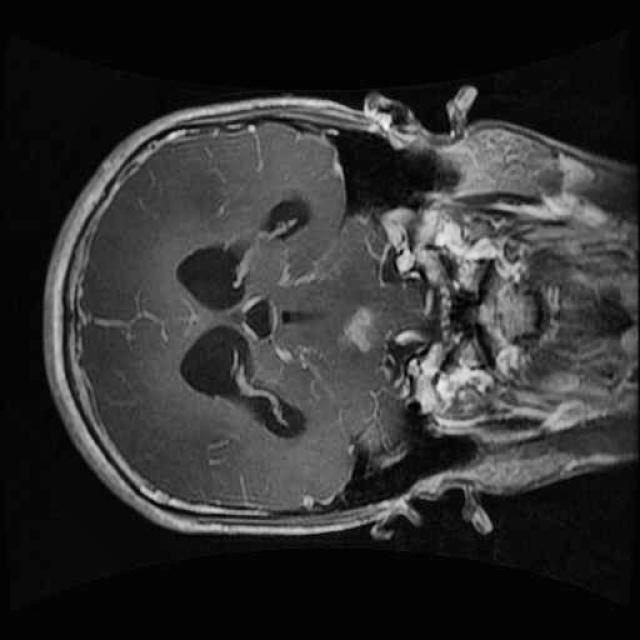Non-Tumor: (340, 288, 408, 365)
